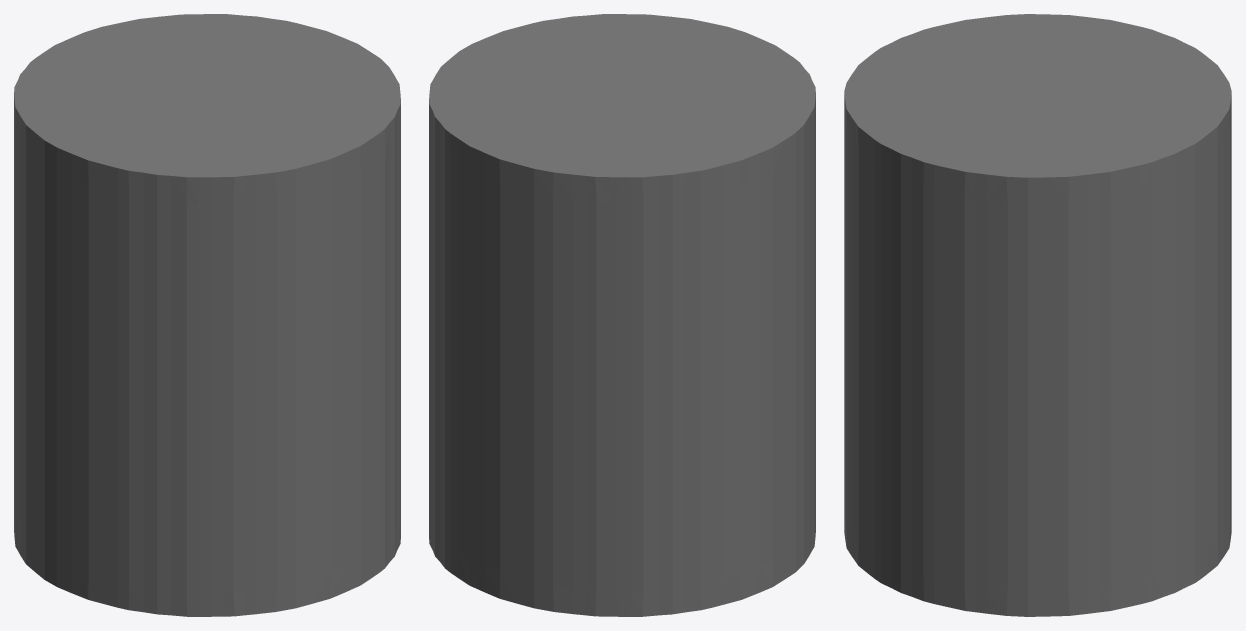
The model's file is barrel_1.dae.
3 views of the same model, side by side, from view 1: azimuth 30°, elevation 25°; view 2: azimuth 150°, elevation 25°; view 3: azimuth 270°, elevation 25° (orthographic).
Visible parts, largest first — view 1: Cylinder; view 2: Cylinder; view 3: Cylinder.
Boxes of the visible parts, bbox=[...] form: Cylinder: bbox=[14, 14, 400, 616]; Cylinder: bbox=[429, 14, 815, 616]; Cylinder: bbox=[844, 14, 1231, 616].
Size of the model in its own units: 0.8 by 0.8 by 1.
Materials: 1 (1 with a texture image).
